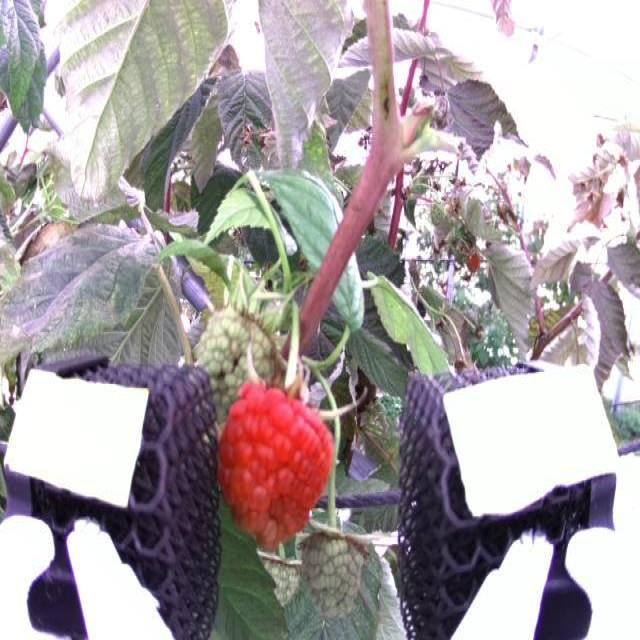Riped berries: (216, 377, 336, 551)
